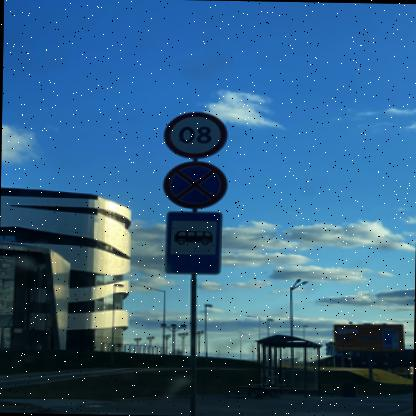speedlimit: (166, 110, 230, 157)
